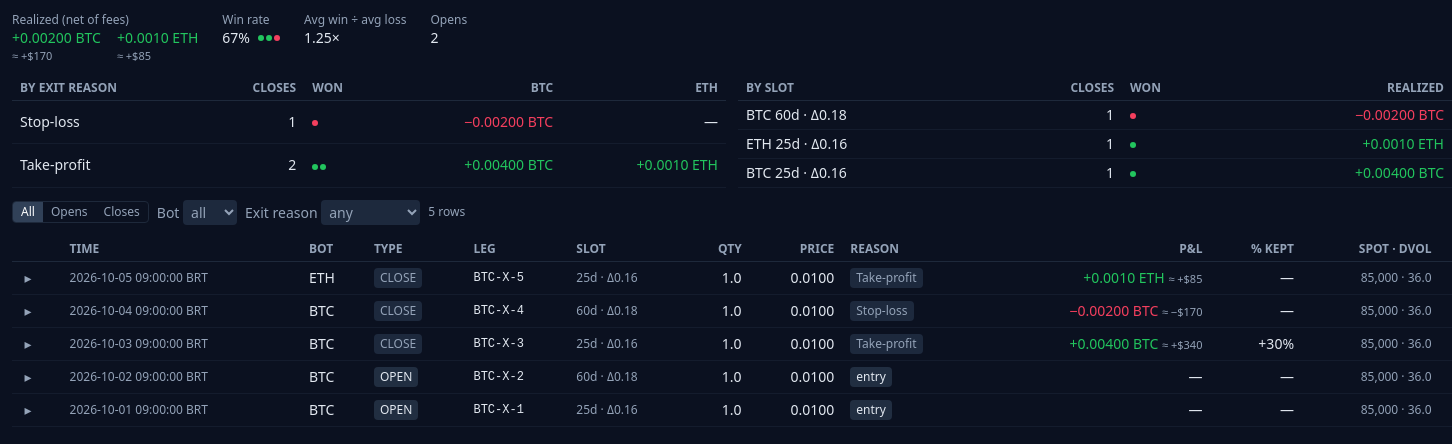
Test: TradeHistory › summary line and rows; All / Opens / Closes and the bot filter work
Check: the text "67%" is shown, box [222, 28, 250, 48]
Check: the text "5 rows" is shown, box [428, 204, 465, 220]
Click the button "Closes" at {"x": 122, "y": 212}, box [96, 202, 148, 222]
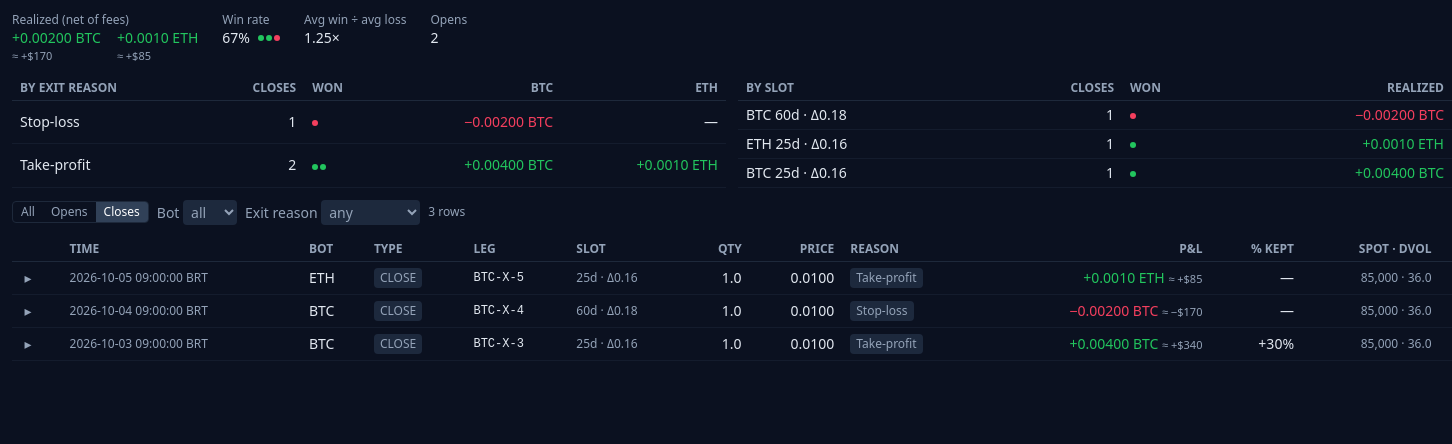
Check: the text "3 rows" is shown, box [428, 204, 465, 220]
Click the button "Opens" at {"x": 69, "y": 212}, box [43, 202, 96, 222]
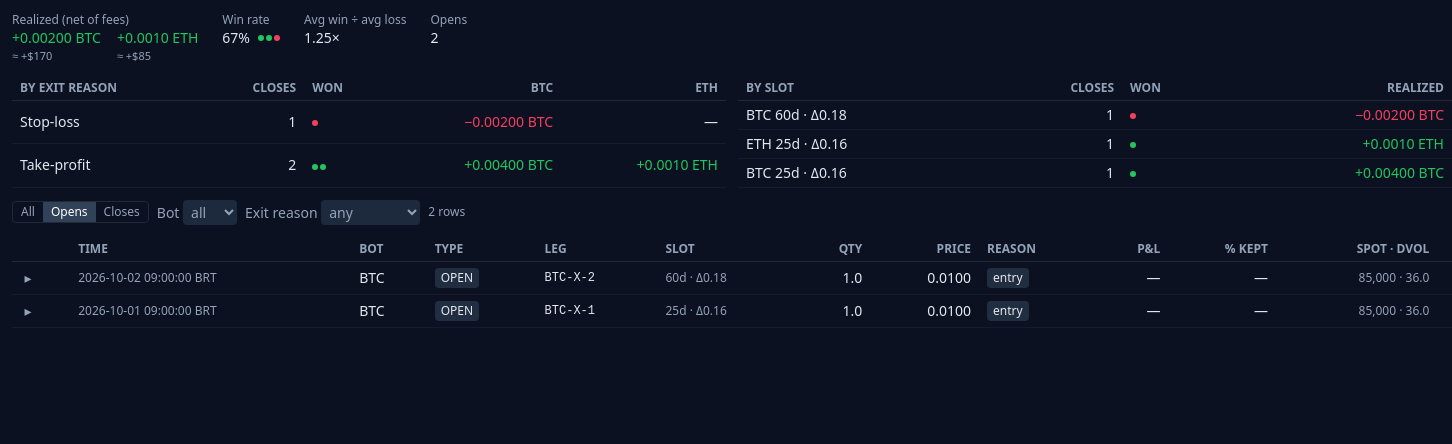
Check: the text "2 rows" is shown, box [428, 204, 465, 220]
Click the button "All" at {"x": 28, "y": 212}, box [13, 202, 43, 222]
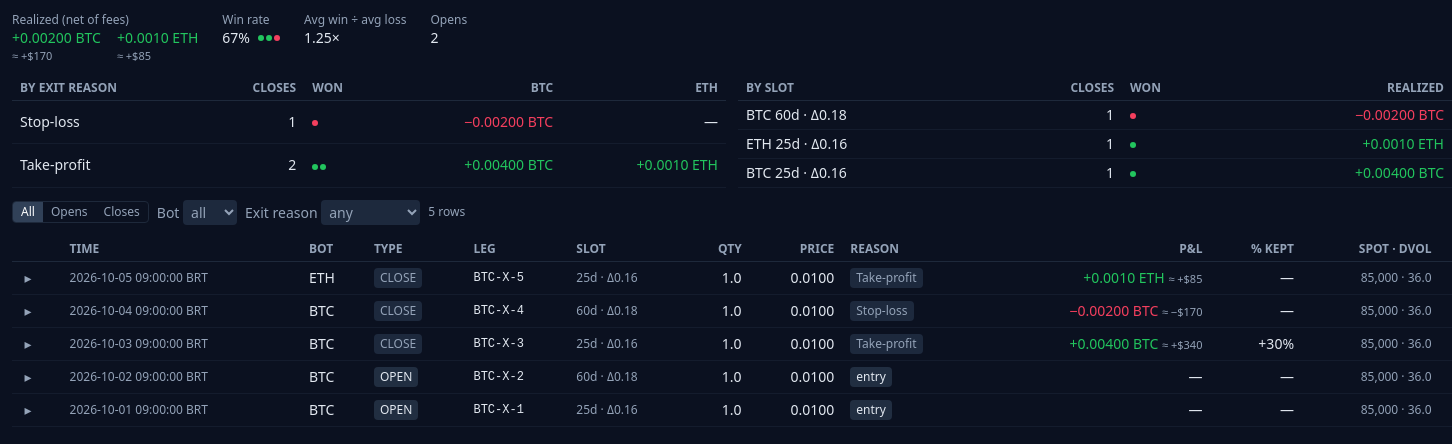
Select "ETH" in the dropdown labelled "Bot" at {"x": 210, "y": 212}, box [183, 200, 237, 225]
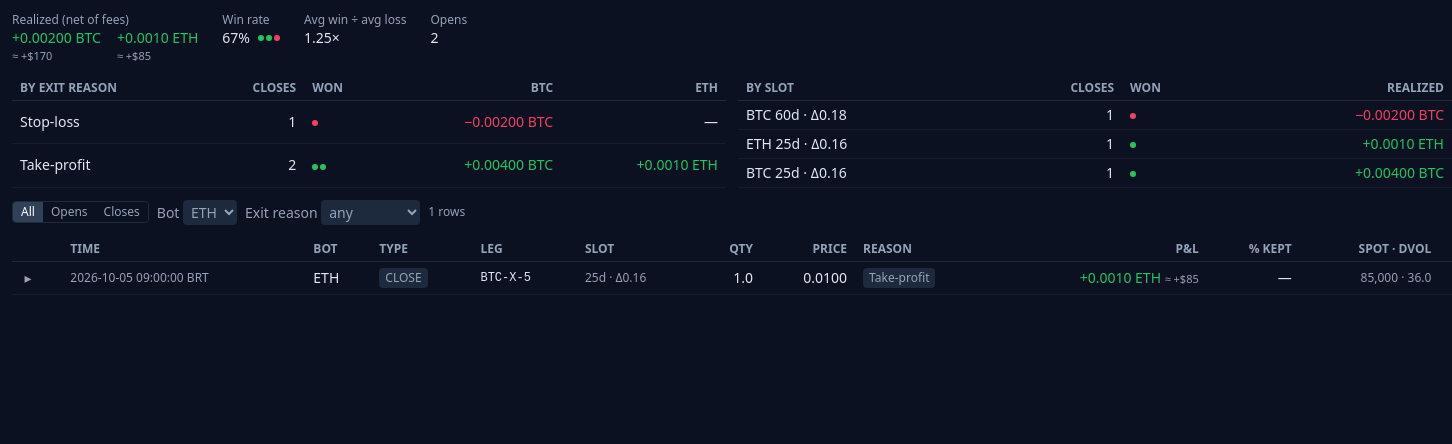
Check: the text "1 rows" is shown, box [428, 204, 465, 220]
